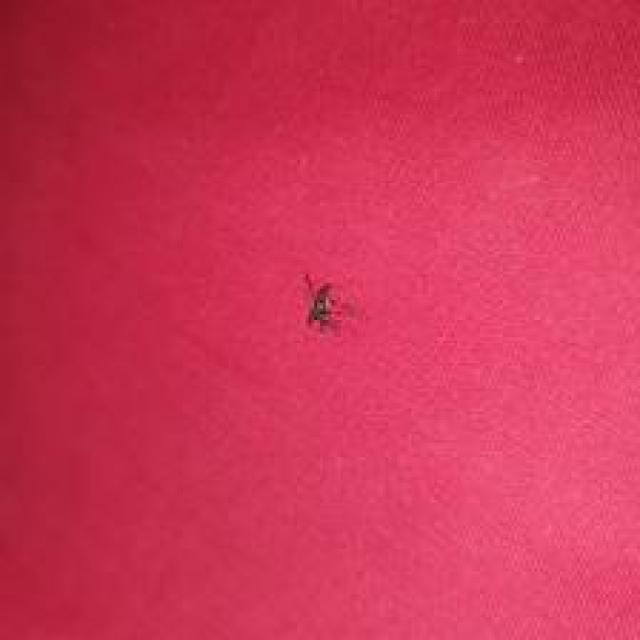Aedes albopictus: (302, 273, 342, 333)
